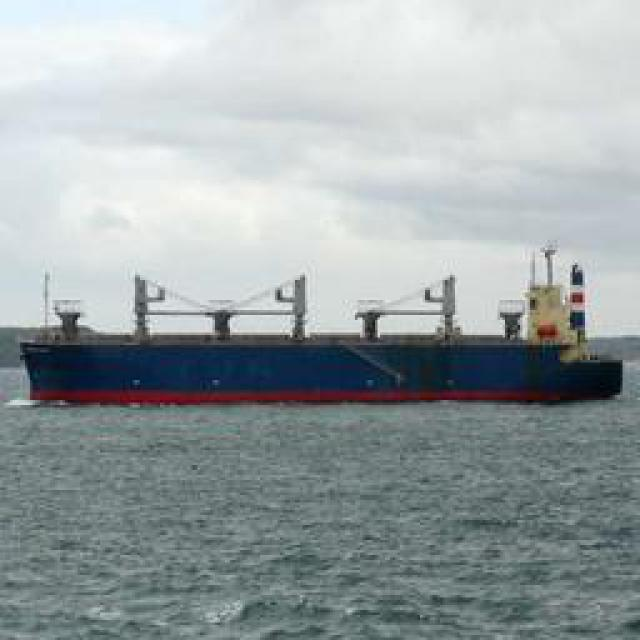Ship: (9, 270, 634, 408)
